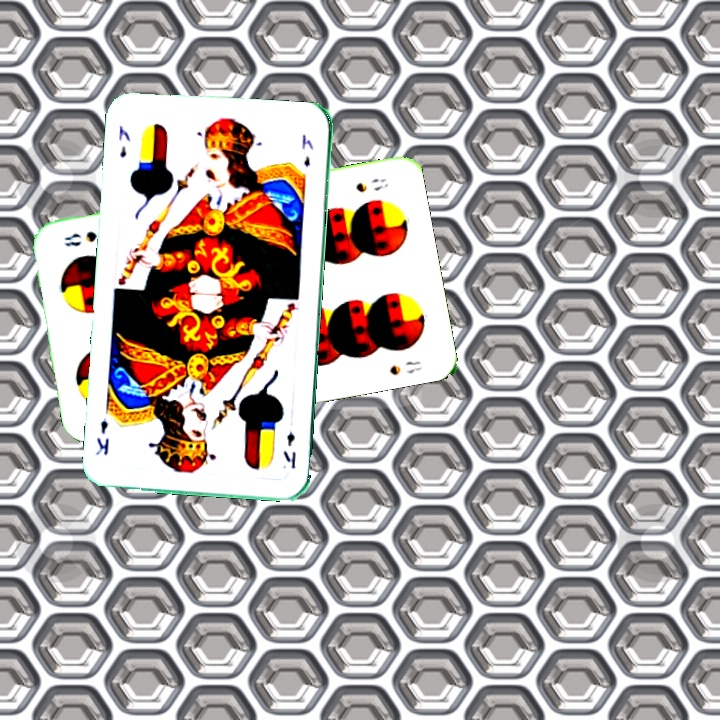EK: (279, 428, 298, 471), (115, 121, 133, 161)
S8: (351, 174, 391, 195)
